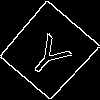Y: (24, 25, 80, 82)
